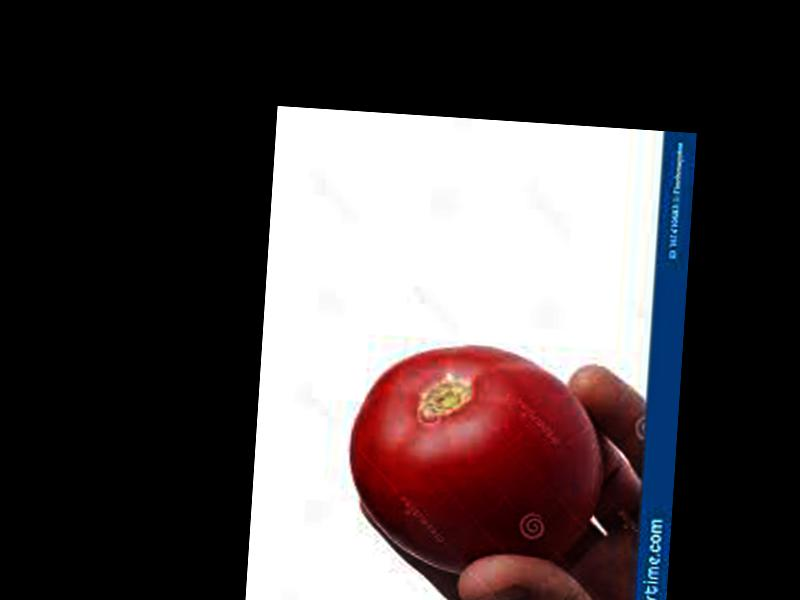Tomato: (343, 339, 609, 583)
